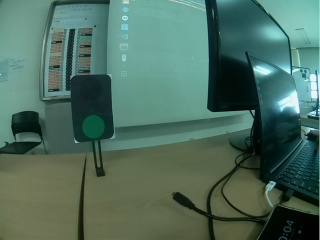green_light: (70, 74, 117, 144)
